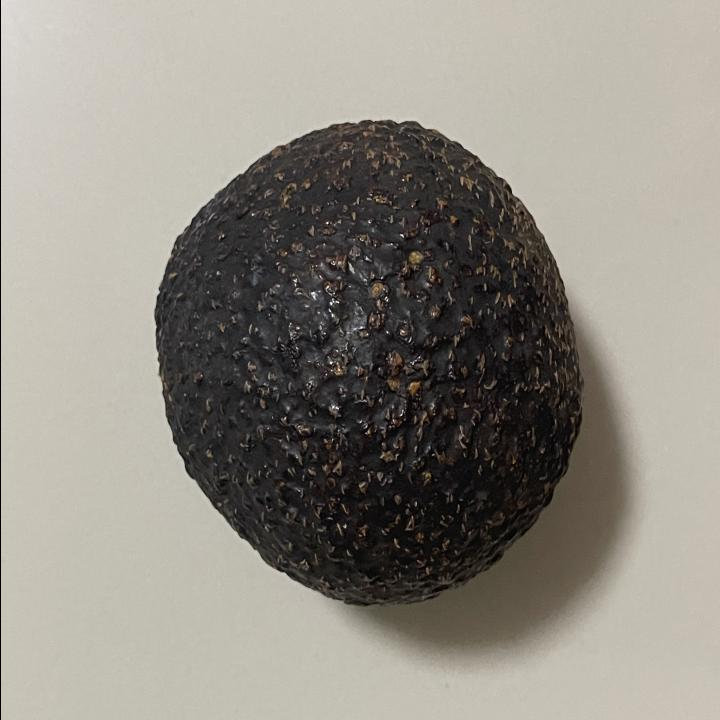Level3: (143, 112, 591, 618)
